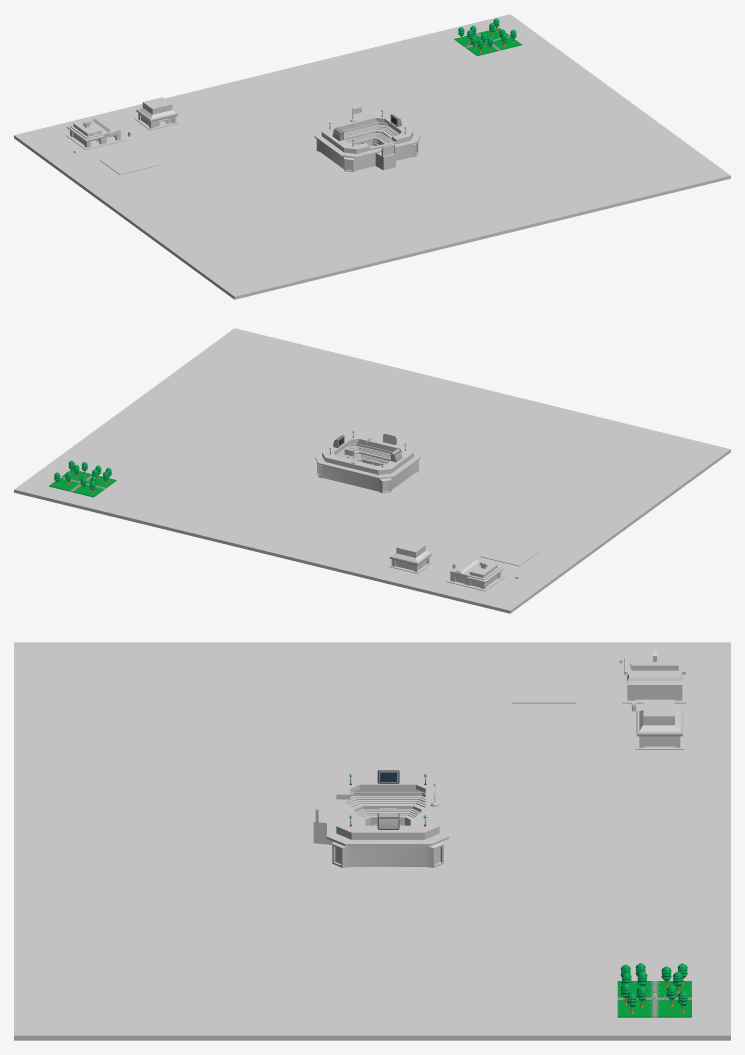
3 views of the same model, one above another, from view 1: azimuth 30°, elevation 25°; view 2: azimuth 150°, elevation 25°; view 3: azimuth 270°, elevation 25° (orthographic). The views are drawn at different scales.
Parts seen in each view (by area): view 1: Box002, Estadio, TiendaNormalYDeRopa, Farmacia, Casa, Parque; view 2: Box002, Estadio, TiendaNormalYDeRopa, Farmacia, Parque, Casa; view 3: Box002, Estadio, TiendaNormalYDeRopa, Farmacia, Casa, Parque.
Part boxes in pixels (bbox=[...]): Box002: bbox=[14, 14, 730, 299]; Estadio: bbox=[314, 113, 420, 172]; TiendaNormalYDeRopa: bbox=[66, 117, 124, 149]; Farmacia: bbox=[135, 97, 179, 130]; Casa: bbox=[100, 150, 158, 174]; Parque: bbox=[454, 28, 521, 56]; Box002: bbox=[14, 328, 730, 613]; Estadio: bbox=[315, 433, 420, 493]; TiendaNormalYDeRopa: bbox=[446, 558, 505, 591]; Farmacia: bbox=[389, 540, 432, 573]; Parque: bbox=[49, 469, 116, 497]; Casa: bbox=[480, 542, 539, 566]; Box002: bbox=[14, 642, 730, 1040]; Estadio: bbox=[313, 777, 449, 867]; TiendaNormalYDeRopa: bbox=[622, 650, 686, 703]; Farmacia: bbox=[635, 700, 683, 749]; Casa: bbox=[512, 671, 576, 703]; Parque: bbox=[617, 981, 691, 1017].
Bounding box in the file's own units: 51374 × 39556 × 3660.
9 materials, 7 textured.
